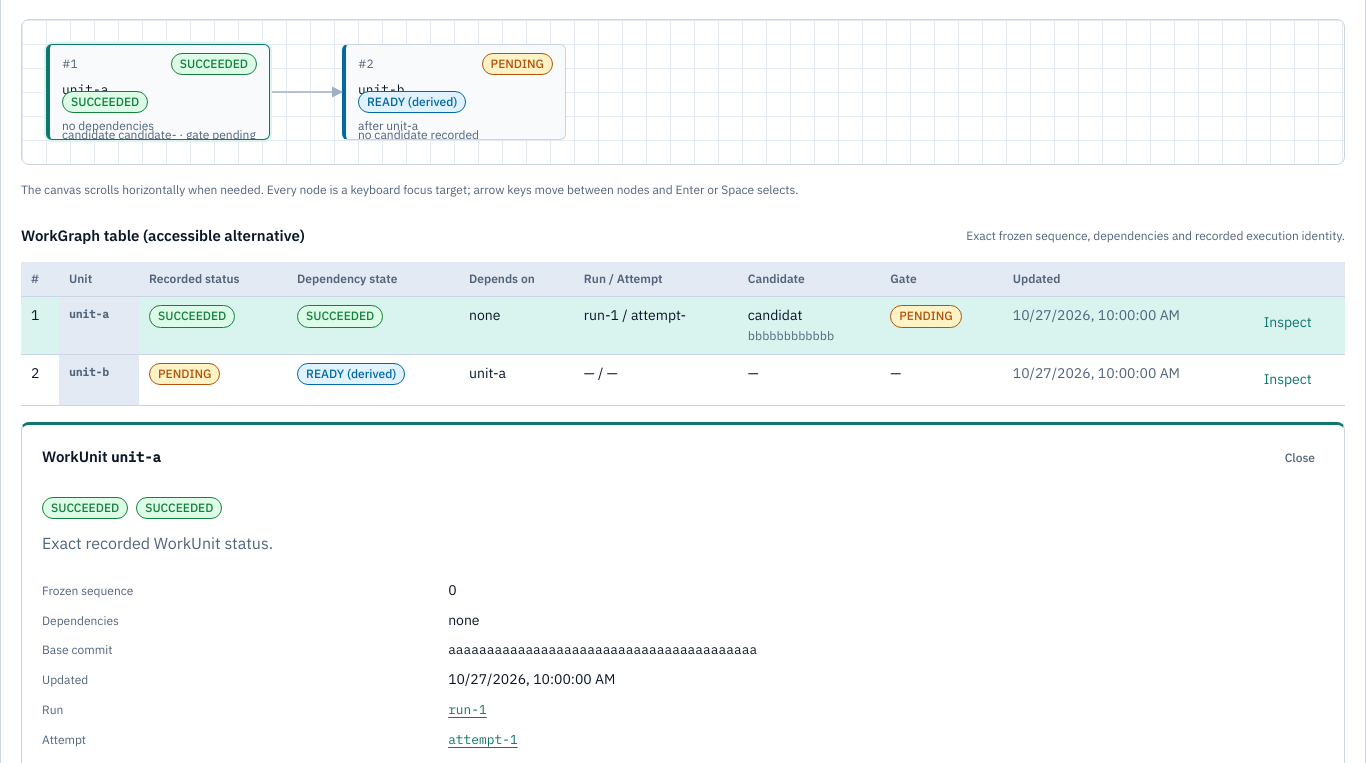
Test: CampaignDetail › deep-links and preserves the selected WorkGraph unit
(page scrolled)
Step 1. Click the 2nd button "Inspect" → (1288, 380), box x1=1264 y1=363 x2=1312 y2=397
(page scrolled)
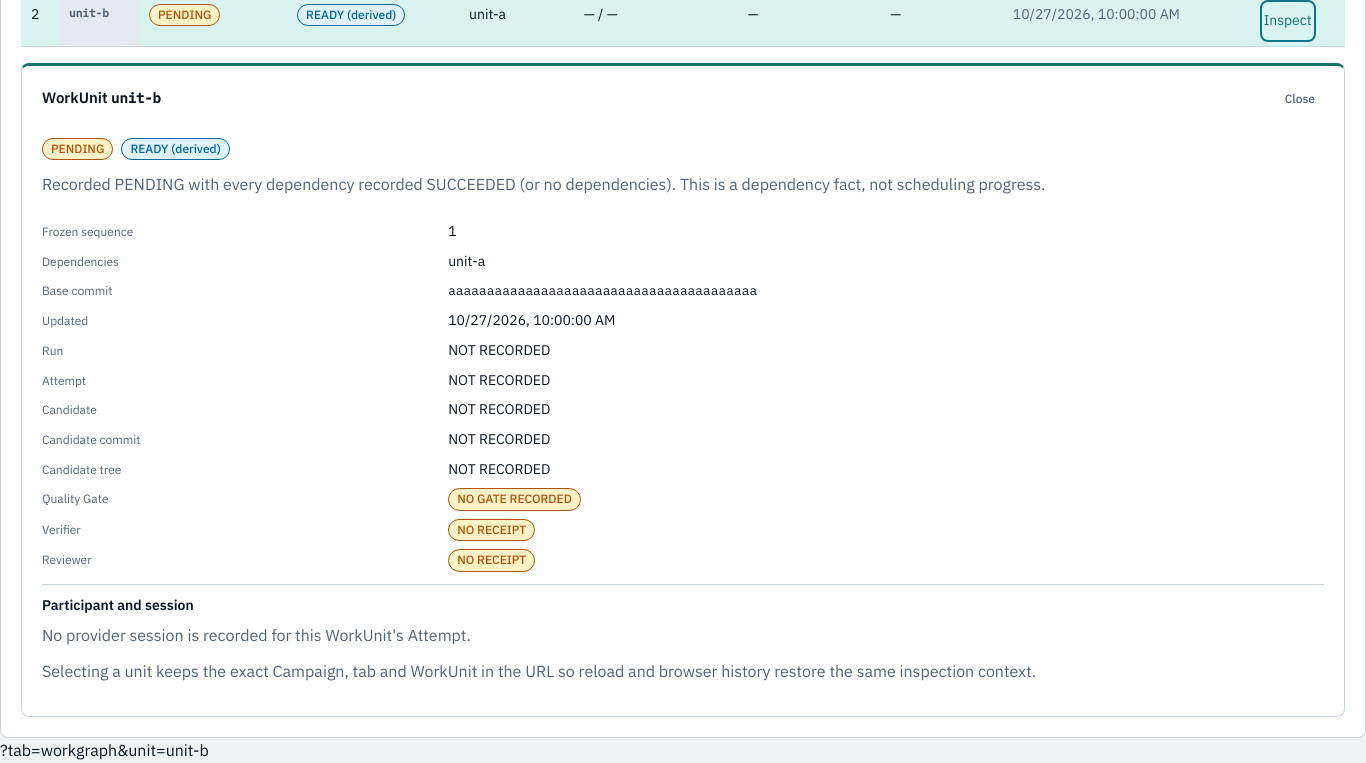
Now the text with test id "location" reads "?tab=workgraph&unit=unit-b", box x1=0 y1=740 x2=209 y2=760
